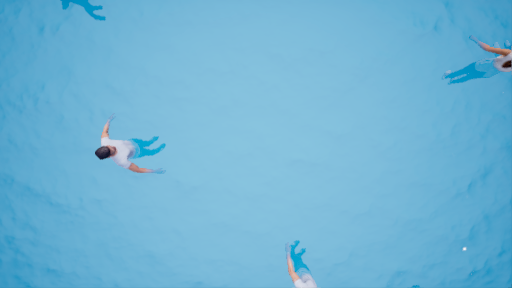person: (87, 117, 175, 179), (444, 34, 512, 86), (278, 234, 328, 288)
